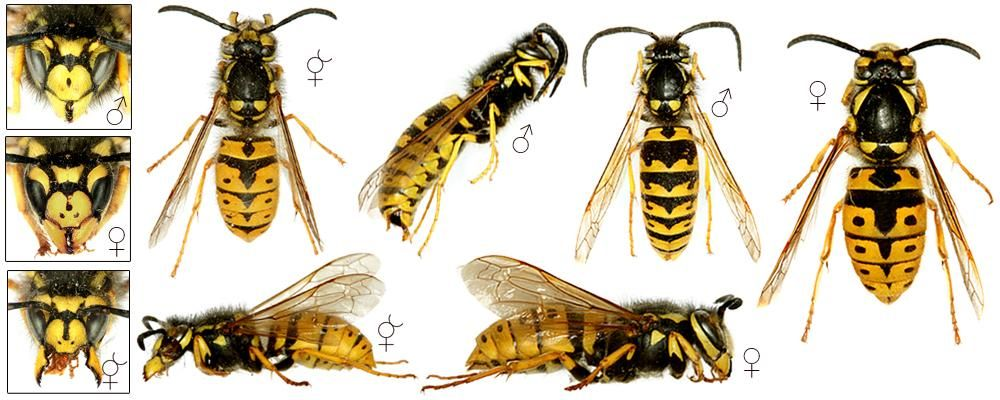chax: (770, 12, 994, 328), (353, 9, 575, 254), (143, 1, 333, 279), (574, 9, 761, 263), (133, 245, 407, 400), (423, 277, 750, 396), (9, 5, 129, 117), (15, 277, 115, 379), (19, 149, 114, 252)
